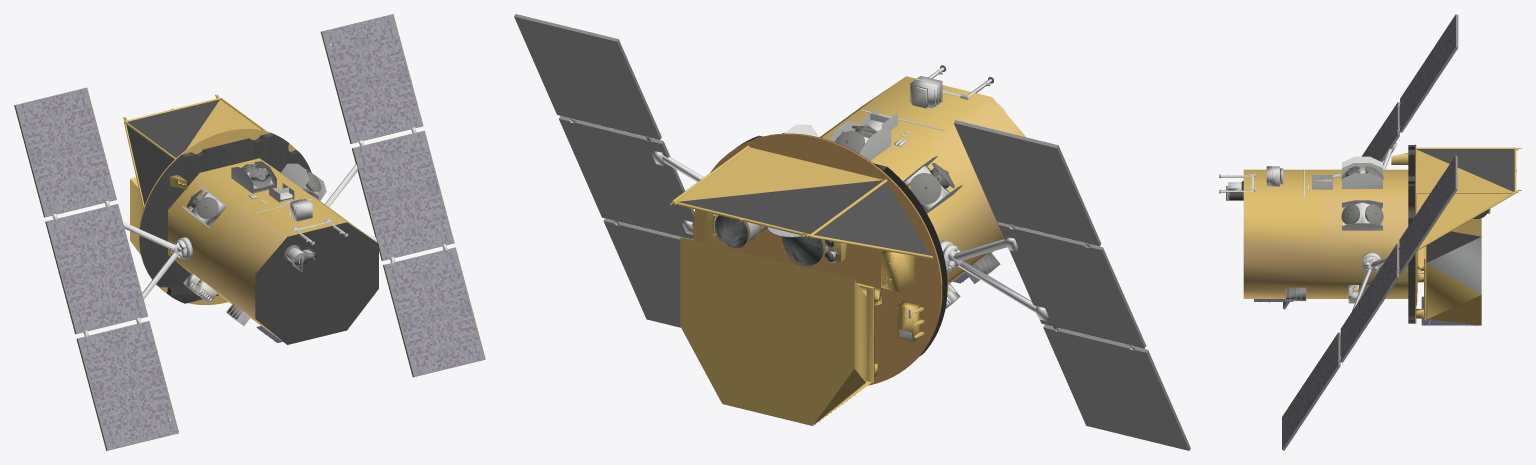
The model's file is Swift-composite-mod5.fbx.
3 renders of one model, left to right at view 1: azimuth 30°, elevation 25°; view 2: azimuth 150°, elevation 25°; view 3: azimuth 270°, elevation 25°, orthographic. The views are drawn at different scales.
Parts seen in each view (by area): view 1: imagetostl_mesh0; view 2: imagetostl_mesh0; view 3: imagetostl_mesh0.
Boxes of the visible parts, <box> form: imagetostl_mesh0: <box>14,14,485,450</box>; imagetostl_mesh0: <box>514,14,1190,450</box>; imagetostl_mesh0: <box>1219,14,1521,450</box>.
Size of the model in its own units: 3992 by 2826 by 2944.
